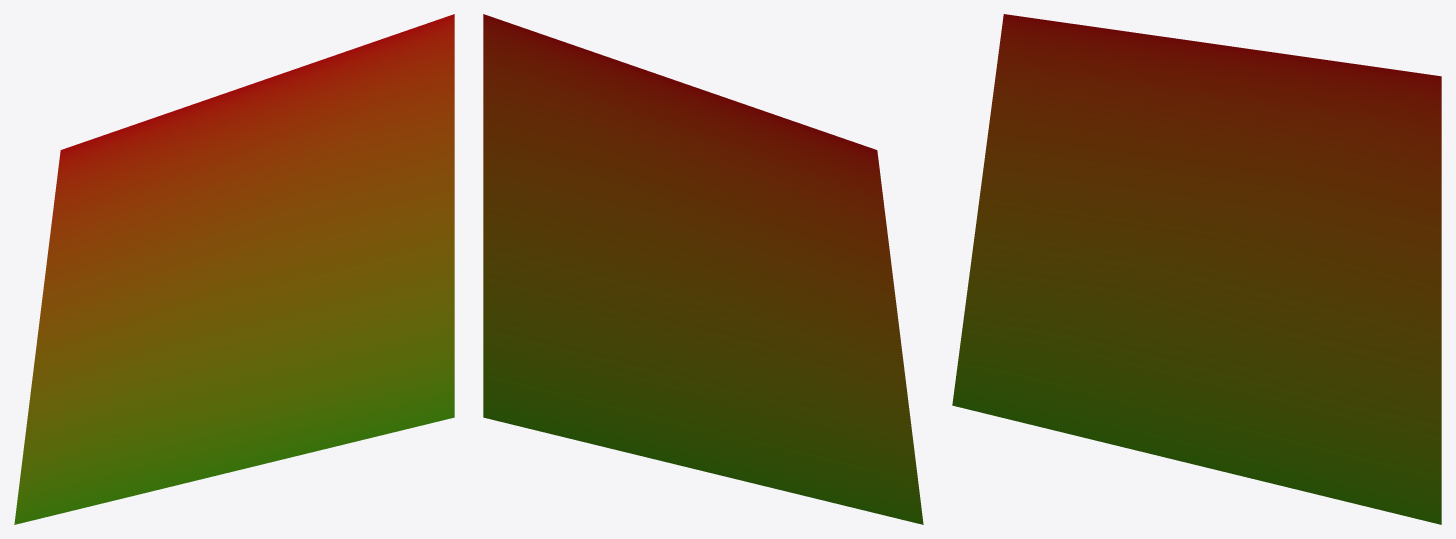
Rendered from Pink Cordyline_LOD3_Var3_sfhhN.fbx.
3 views of the same model, side by side, from view 1: azimuth 30°, elevation 25°; view 2: azimuth 150°, elevation 25°; view 3: azimuth 330°, elevation 25° (orthographic). The views are drawn at different scales.
Visible parts, largest first — view 1: _0df4_Var3_LOD3; view 2: _0df4_Var3_LOD3; view 3: _0df4_Var3_LOD3.
Boxes of the visible parts, left/top/right/bottom form: _0df4_Var3_LOD3: left=14, top=14, right=454, bottom=524; _0df4_Var3_LOD3: left=483, top=14, right=923, bottom=524; _0df4_Var3_LOD3: left=952, top=14, right=1441, bottom=524.
Size of the model in its own units: 76.57 by 67.07 by 1.19e-07.
